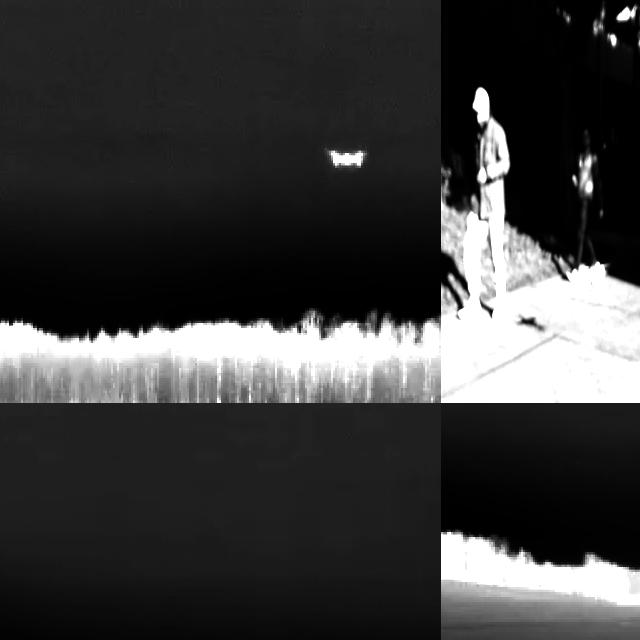1: (319, 143, 379, 178)
drone: (574, 257, 614, 304)
